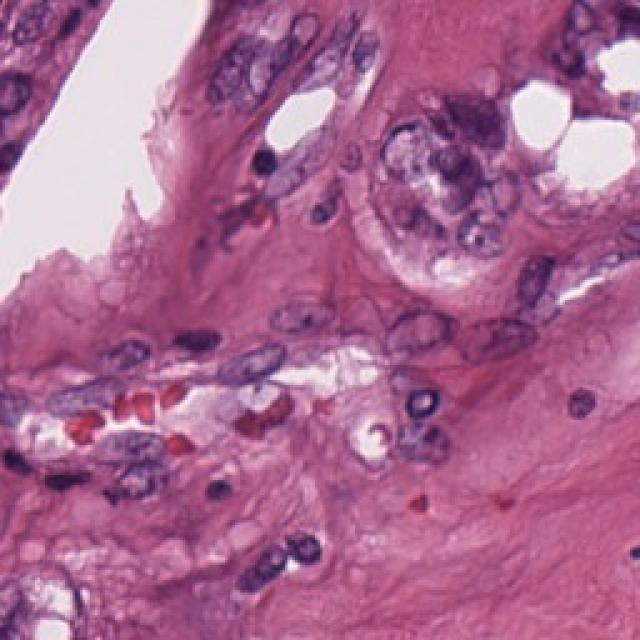abnormal: (233, 25, 303, 118), (216, 318, 292, 402), (465, 304, 543, 385), (383, 266, 442, 368), (437, 197, 518, 266), (377, 106, 439, 190), (208, 22, 252, 110)
